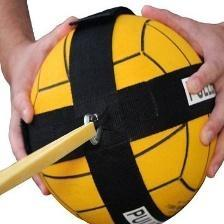Sports-Ball: (22, 15, 220, 224)
